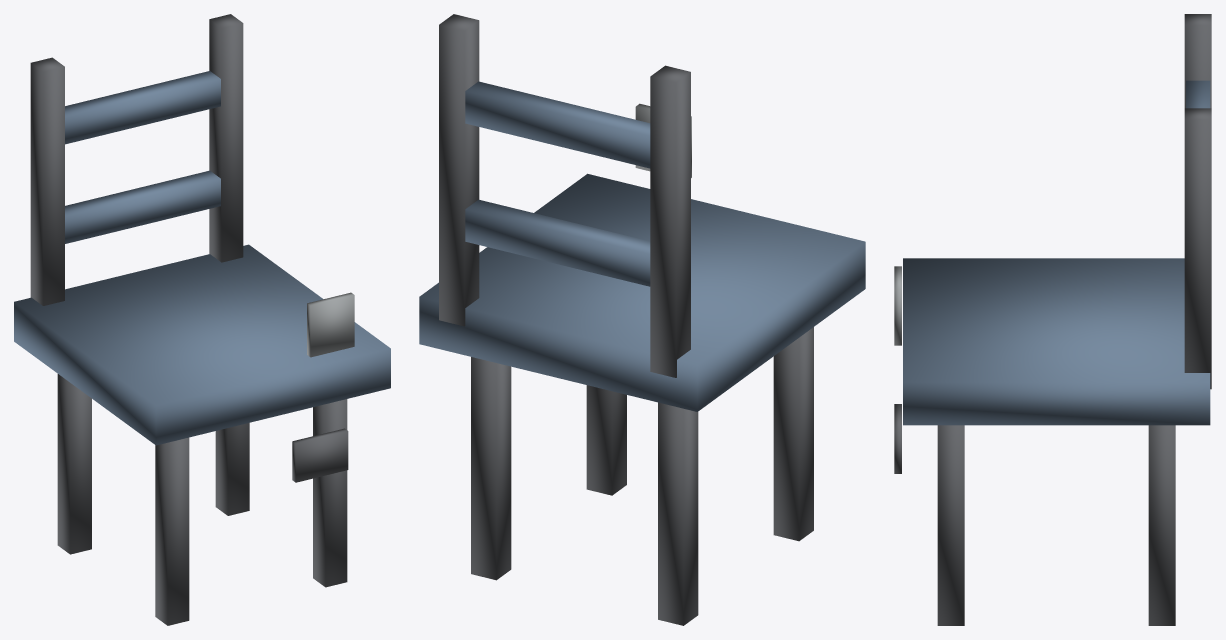
Rendered from courtroom_spectator_chair__weathered.glb.
The picture shows the model from 3 angles, left to right: view 1: azimuth 30°, elevation 25°; view 2: azimuth 150°, elevation 25°; view 3: azimuth 270°, elevation 25°; orthographic projection. The views are drawn at different scales.
Visible parts, largest first — view 1: world; view 2: world; view 3: world.
Part boxes in pixels (x1,y1,x2,y2): world: (14,14,390,625); world: (419,14,865,625); world: (894,14,1211,625).
Size of the model in its own units: 0.488 by 0.9395 by 0.528.
